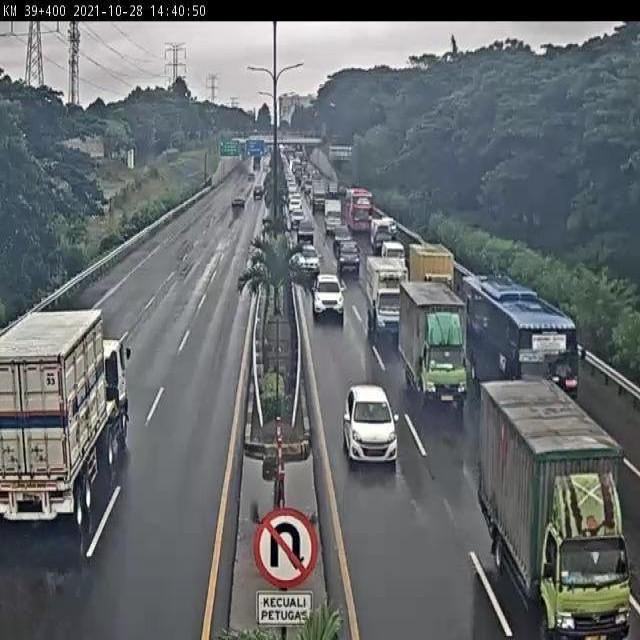big truck: (0, 309, 129, 528)
bus-l-: (460, 274, 580, 414)
car: (342, 384, 401, 469), (311, 273, 344, 315)
truck-m-: (478, 380, 632, 640), (398, 283, 471, 413), (365, 254, 411, 338), (407, 243, 456, 293)
